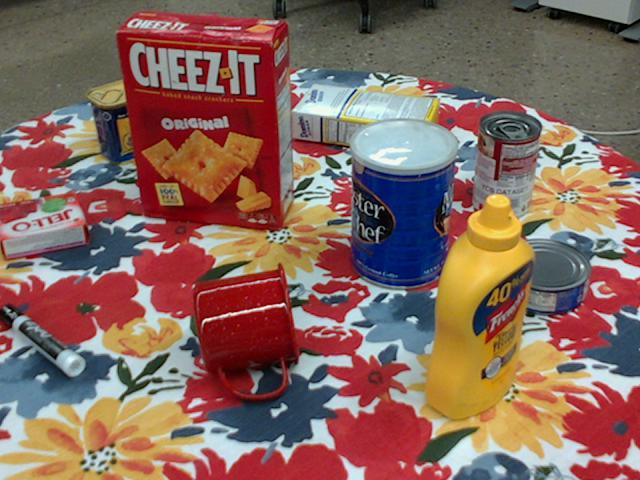cracker_box: (117, 10, 295, 225)
gelatin_box: (0, 191, 89, 260)
large_marker: (0, 303, 83, 375)
master_chef_can: (350, 118, 458, 291)
mug: (193, 262, 301, 400)
mustard_bottle: (425, 193, 533, 420)
potted_meat_can: (87, 71, 175, 163)
sugar_box: (290, 83, 441, 158)
tomato_soup_can: (473, 111, 541, 220)
tuna_fish_can: (499, 240, 591, 317)
